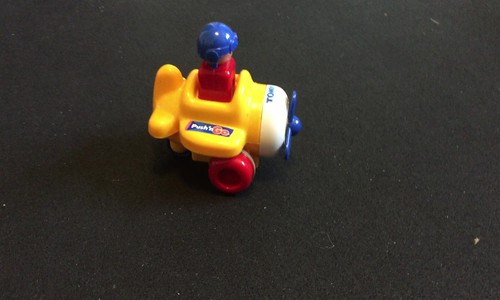toy: (143, 16, 304, 195)
